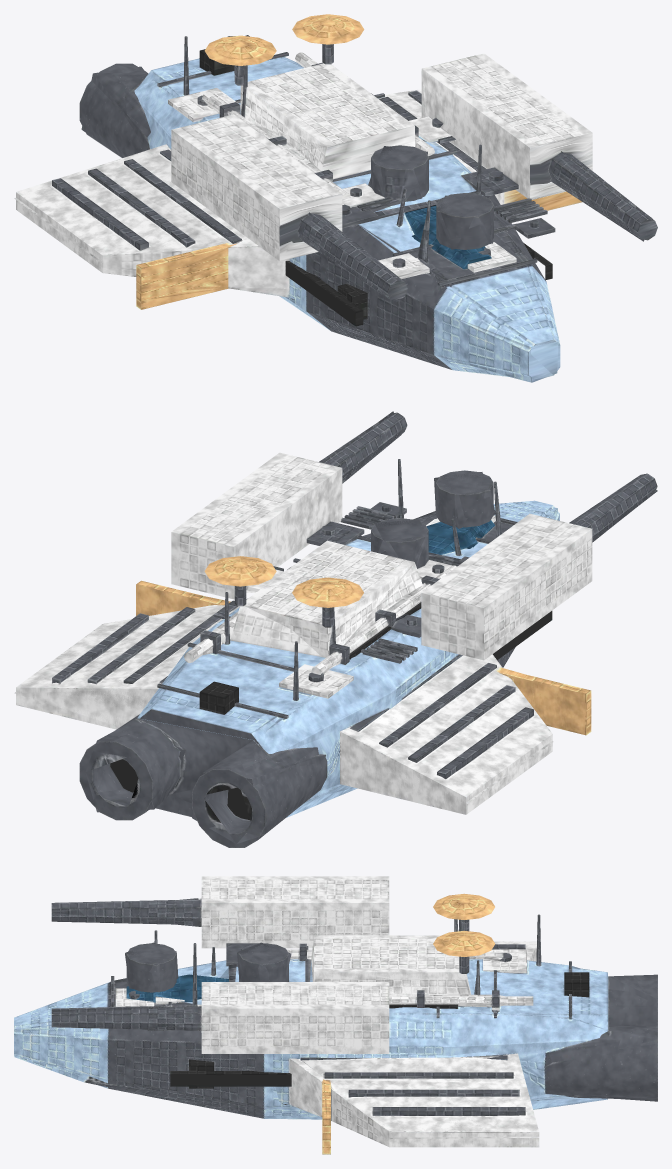
File: sd_npc_corvette.glb
3 views of the same model, one above another, from view 1: azimuth 30°, elevation 25°; view 2: azimuth 150°, elevation 25°; view 3: azimuth 270°, elevation 25° (orthographic). The views are drawn at different scales.
Parts seen in each view (by area): view 1: LOD0_body, LOD1_body; view 2: LOD0_body, LOD1_body; view 3: LOD0_body, LOD1_body.
Boxes of the visible parts, bbox=[...] form: LOD0_body: bbox=[16, 14, 657, 379]; LOD1_body: bbox=[14, 22, 652, 382]; LOD0_body: bbox=[16, 412, 657, 847]; LOD1_body: bbox=[14, 411, 657, 843]; LOD0_body: bbox=[14, 876, 657, 1154]; LOD1_body: bbox=[14, 876, 657, 1138].
Bounding box in the file's own units: 0.7045 × 0.2925 × 1.
1 material, 1 textured.
